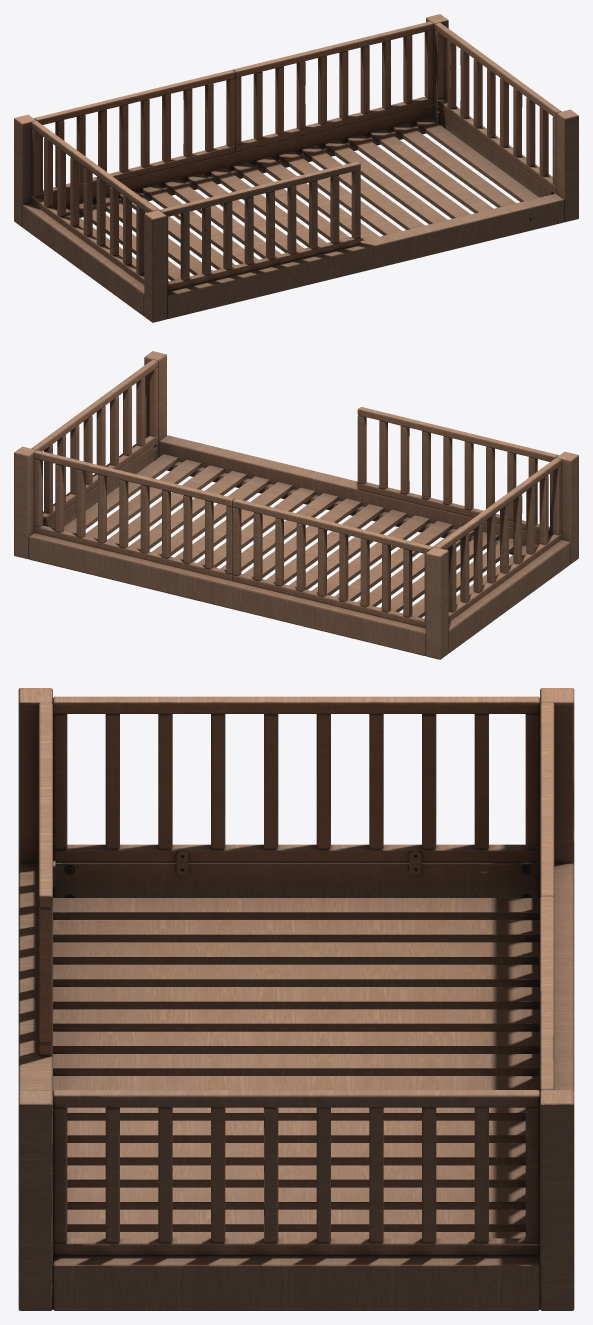
Rendered from earth-160x80.glb.
3 renders of one model, top to bottom at view 1: azimuth 30°, elevation 25°; view 2: azimuth 150°, elevation 25°; view 3: azimuth 270°, elevation 25°, orthographic. The views are drawn at different scales.
Parts seen in each view (by area): view 1: Mesh_148.001; view 2: Mesh_148.001; view 3: Mesh_148.001.
Boxes of the visible parts, box(x1,y1,x2,y2) form: Mesh_148.001: box(14, 14, 578, 322); Mesh_148.001: box(14, 351, 578, 659); Mesh_148.001: box(18, 688, 574, 1310).
Size of the model in its own units: 1.72 by 0.4 by 0.97.
Materials: 1 (1 with a texture image).
